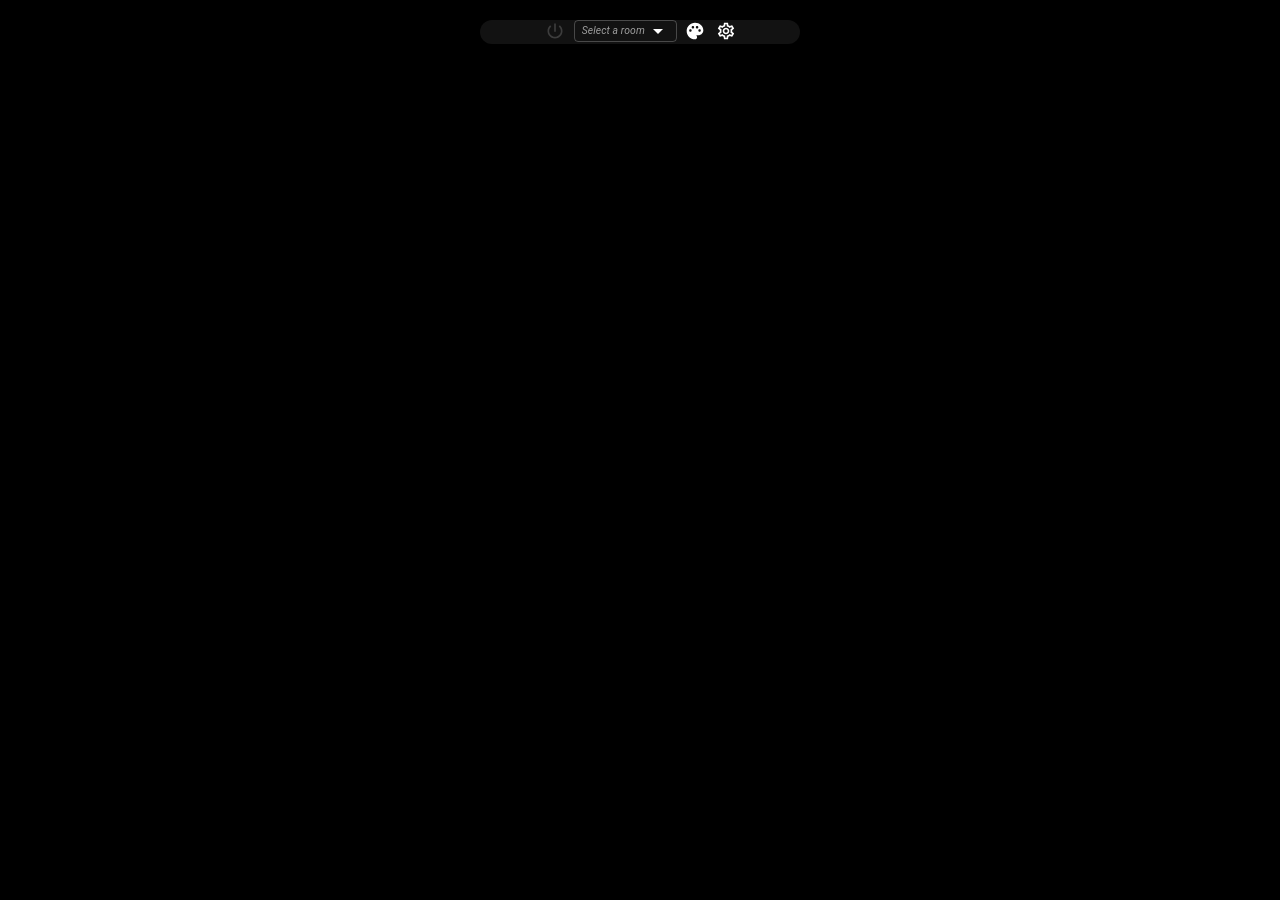
it: selecting a zone renders now playing song title
Click the dropdown at point(613, 31), box [582,24,645,37]
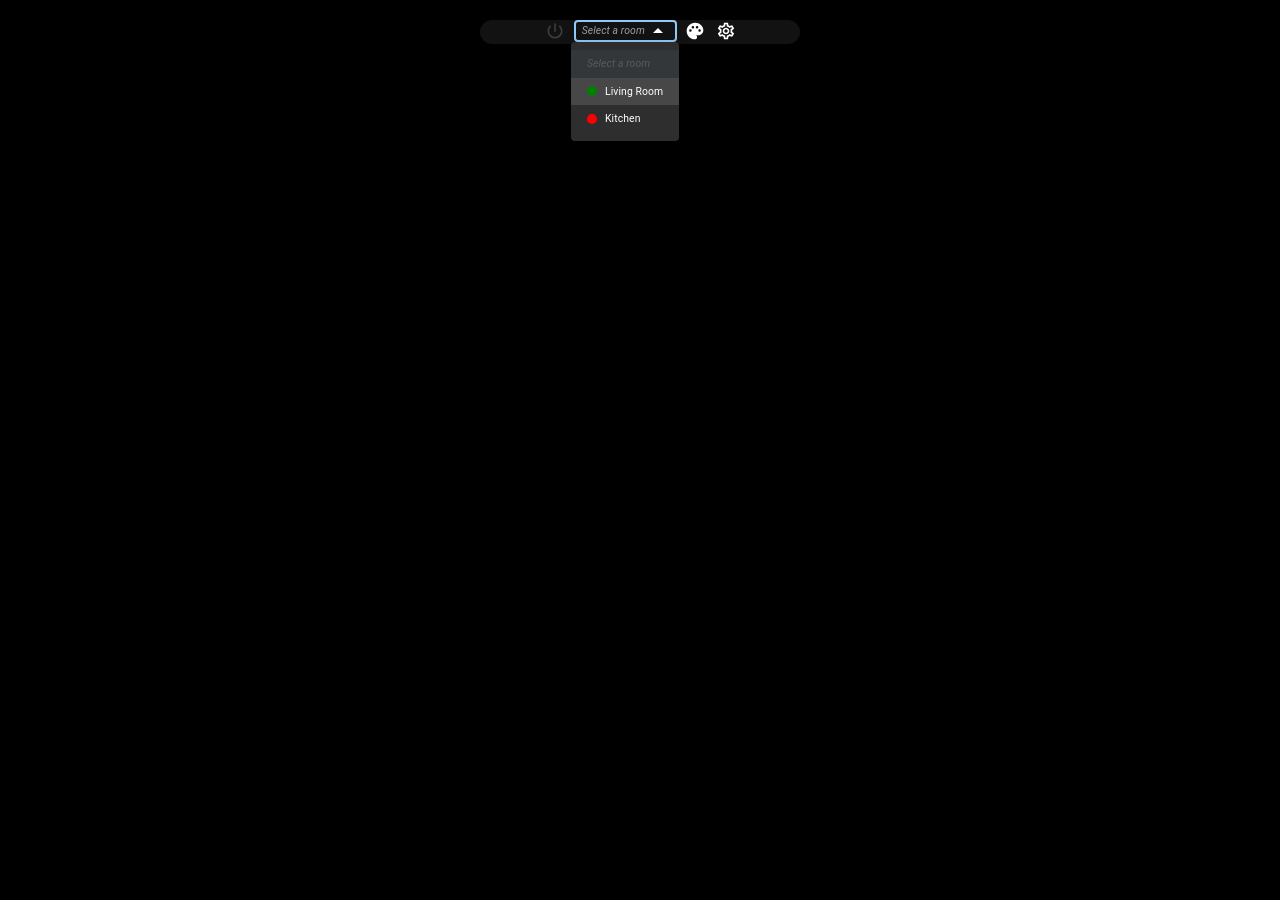
Click the option "Living Room" at point(625, 91), box [571,78,679,105]
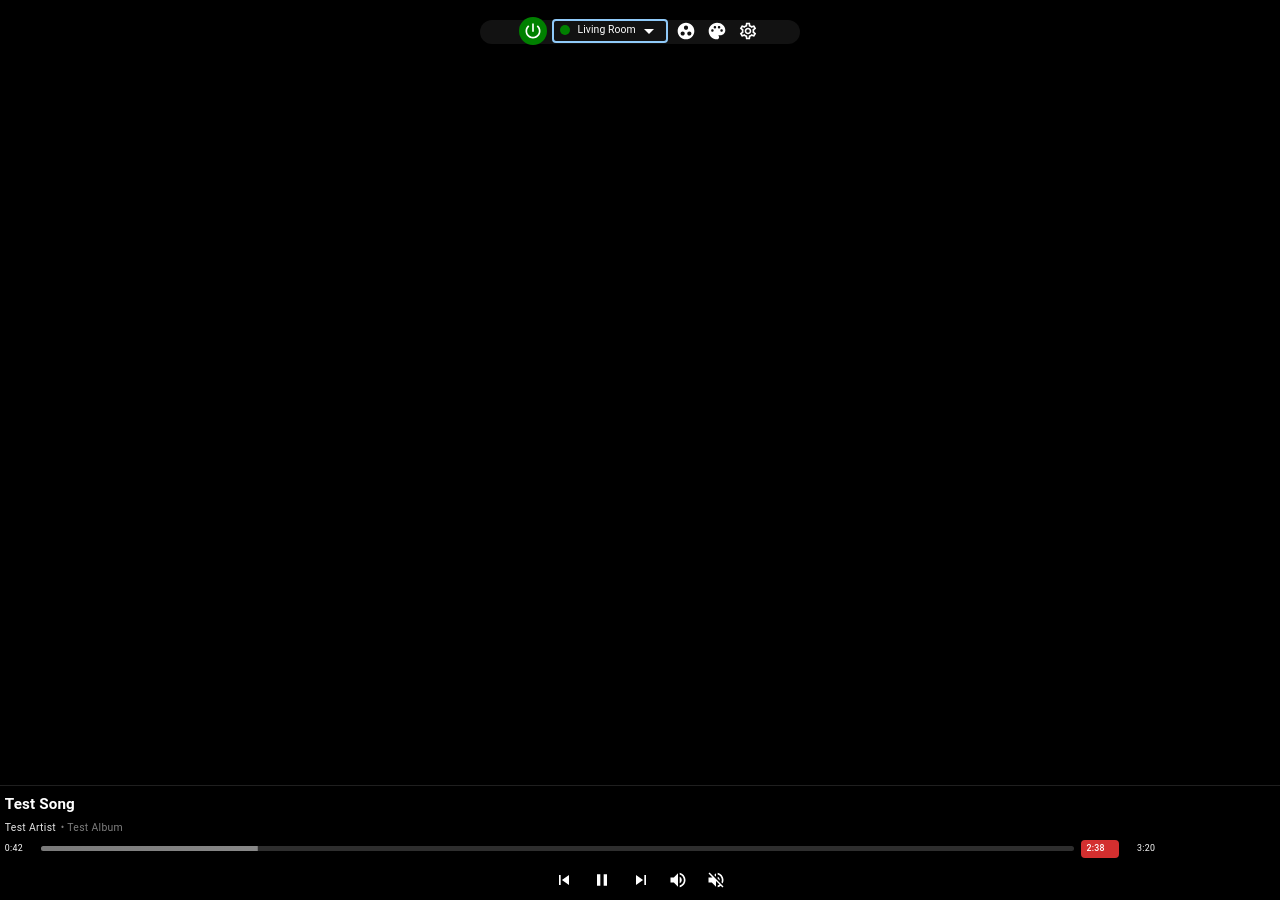
Expected: the heading "Test Song" is shown, [5,795,75,813]
Expected: the text "Test Artist" is shown, [5,819,56,837]
